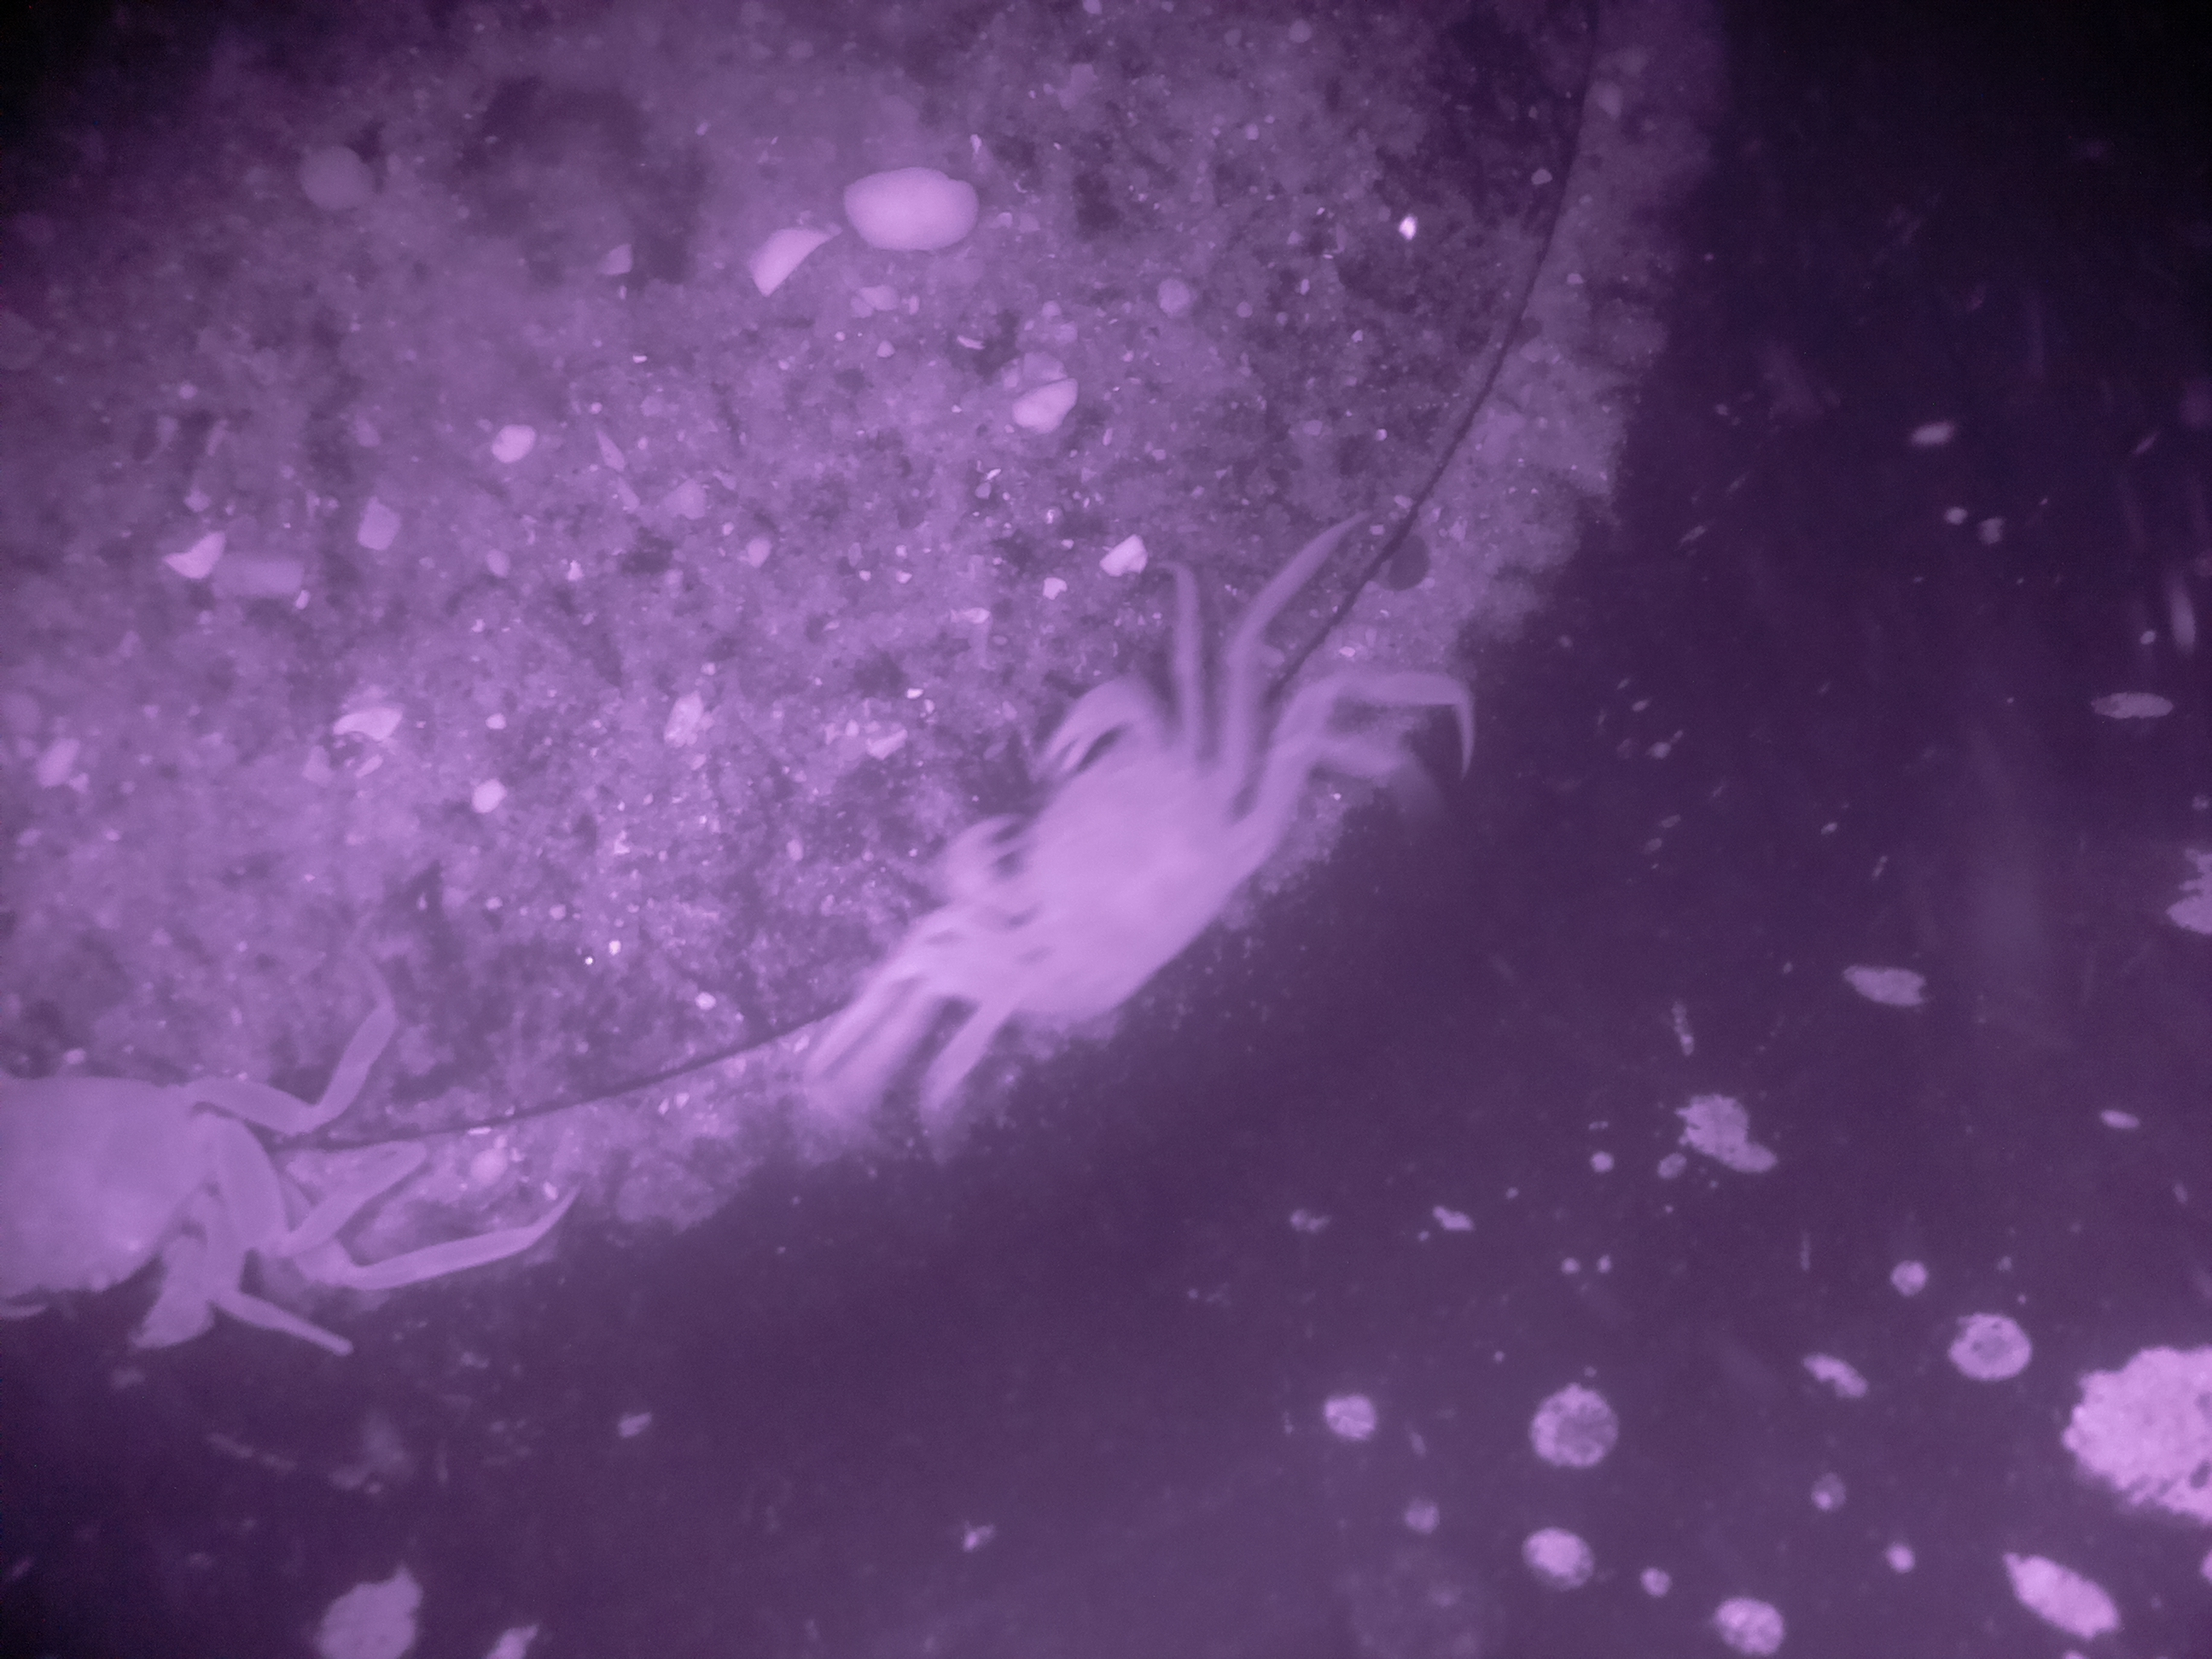Crab: (841, 622, 1369, 1103)
